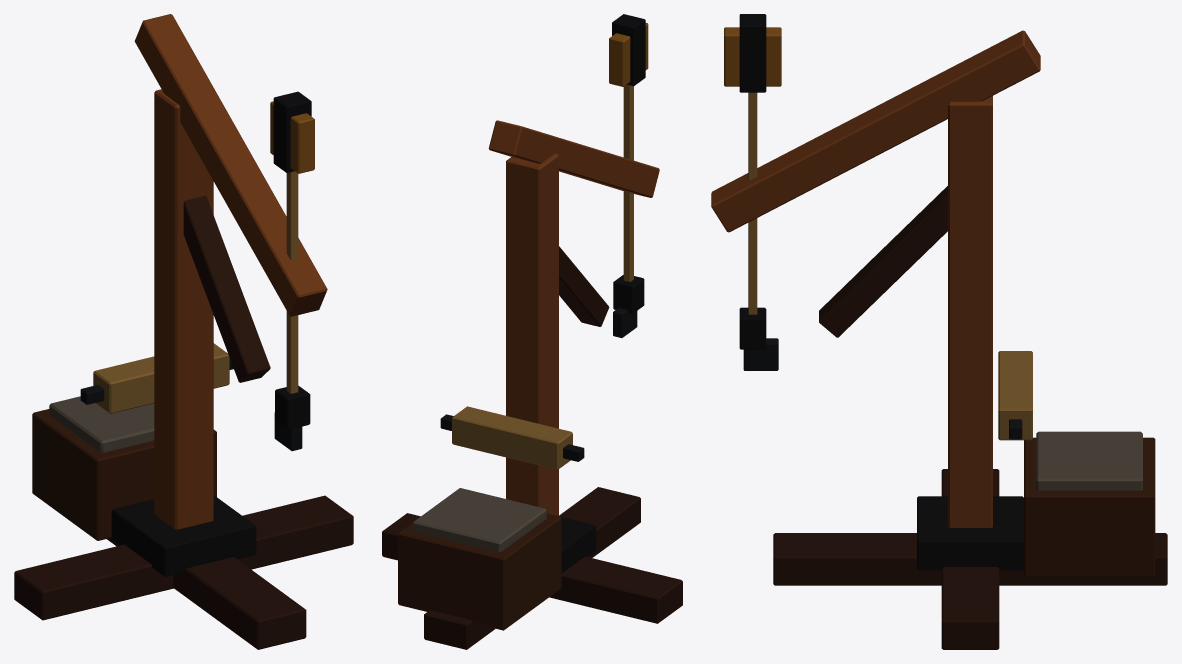
The model's file is mod_pulley_crane_3m.glb.
3 views of the same model, side by side, from view 1: azimuth 30°, elevation 25°; view 2: azimuth 150°, elevation 25°; view 3: azimuth 270°, elevation 25° (orthographic). The views are drawn at different scales.
Parts seen in each view (by area): view 1: Mod_Pulley_Crane_3m; view 2: Mod_Pulley_Crane_3m; view 3: Mod_Pulley_Crane_3m.
Boxes of the visible parts, x1,y1,x2,y2 form: Mod_Pulley_Crane_3m: (14,14,353,649); Mod_Pulley_Crane_3m: (382,14,682,649); Mod_Pulley_Crane_3m: (711,14,1167,649).
Size of the model in its own units: 1.76 by 2.98 by 2.22.
